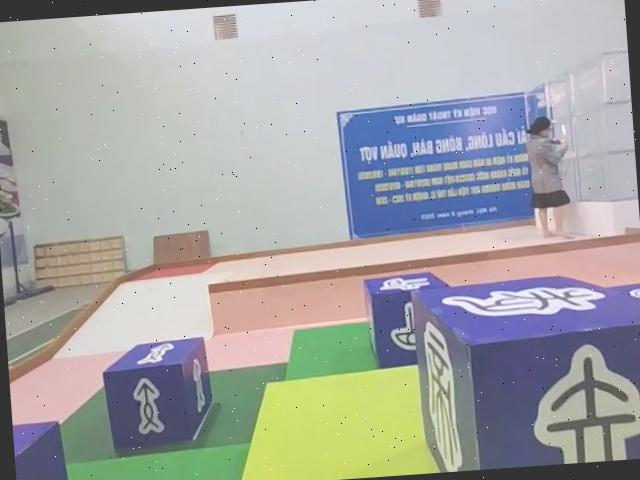R2 Fake Blue: (413, 261, 640, 473)
R2 Real Blue: (98, 337, 215, 455)
